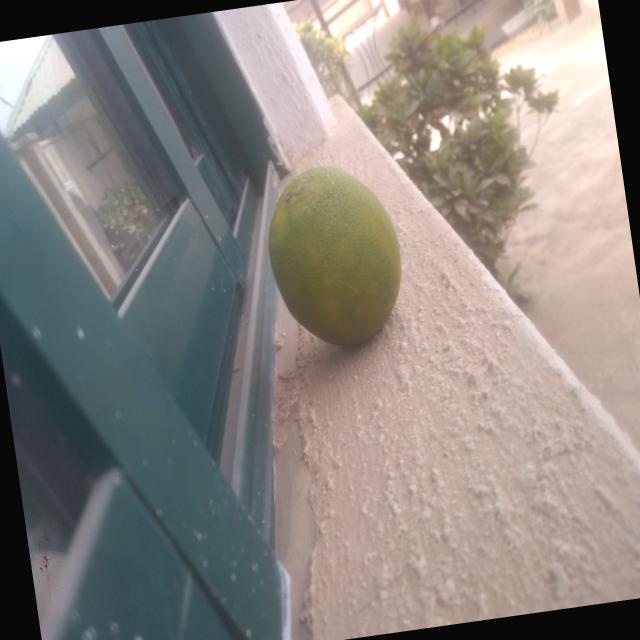agrume: (218, 145, 417, 372)
